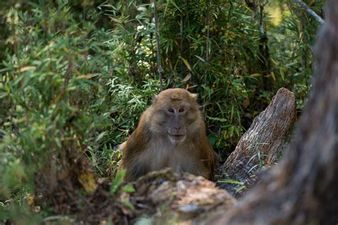monkey: (74, 51, 231, 170)
